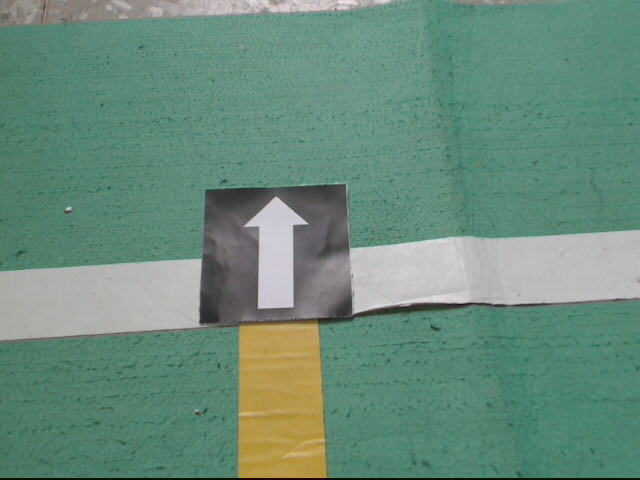straight: (199, 187, 354, 319)
